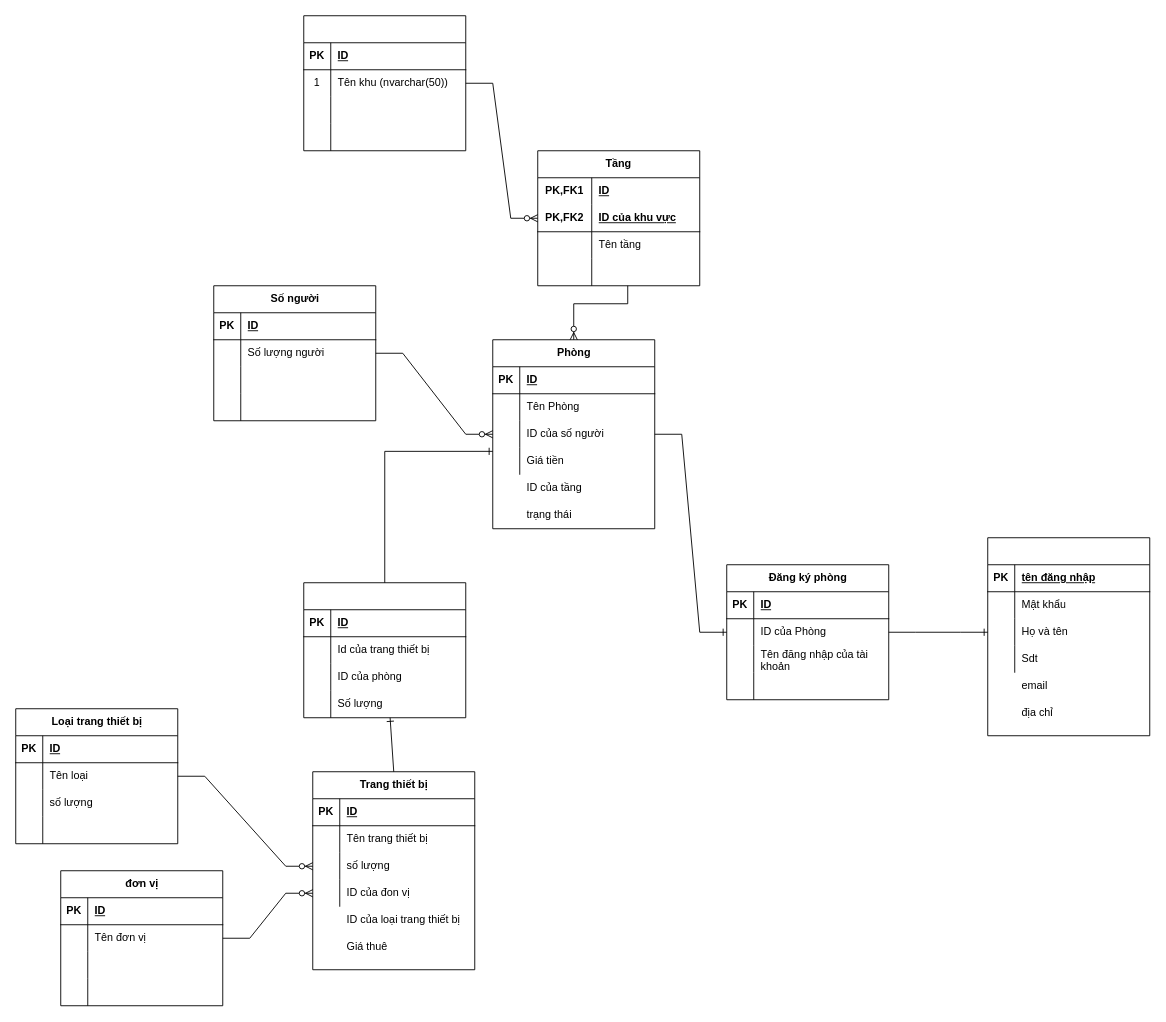
Image size: 1166x1022. Some labels were removed from this diagram. Here are the shapes that lost their labels. From the top down, the box of each, then its label:
(303, 15, 466, 151): Khu vực
(303, 582, 466, 718): Thêm trang thiết bị
(987, 537, 1150, 736): Tài khoản
